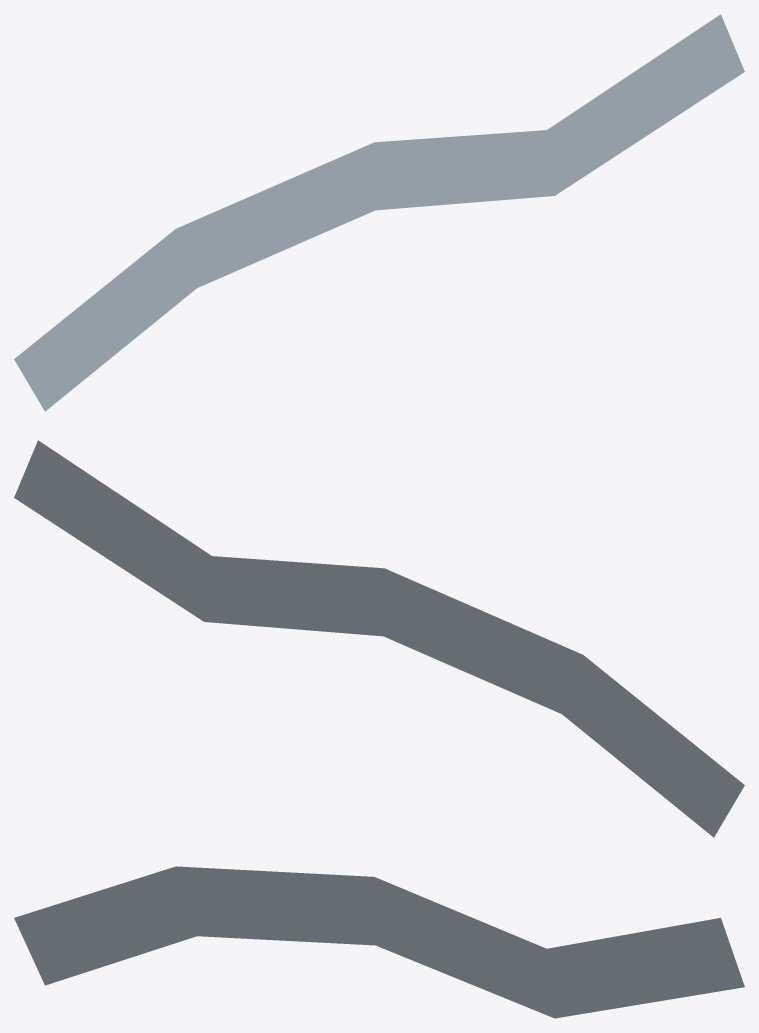
Rendered from 2038_FreezingSpray_Normal_SprayWisp.fbx.
The picture shows the model from 3 angles, top to bottom: view 1: azimuth 30°, elevation 25°; view 2: azimuth 150°, elevation 25°; view 3: azimuth 330°, elevation 25°; orthographic projection.
Parts seen in each view (by area): view 1: PART_ColdSprayShortCurl; view 2: PART_ColdSprayShortCurl; view 3: PART_ColdSprayShortCurl.
Part boxes in pixels (bbox=[...]): PART_ColdSprayShortCurl: bbox=[14, 14, 744, 411]; PART_ColdSprayShortCurl: bbox=[14, 440, 744, 837]; PART_ColdSprayShortCurl: bbox=[14, 866, 744, 1018].
Size of the model in its own units: 116 by 35.41 by 5.77e-06.
